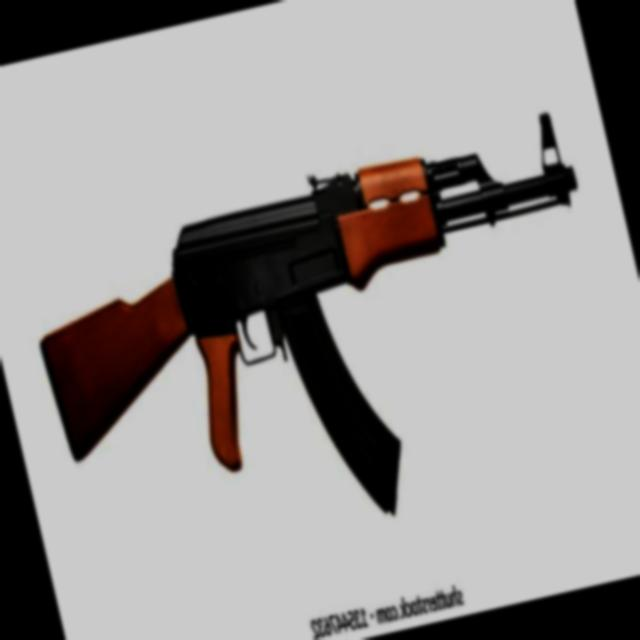ak: (9, 97, 640, 583)
